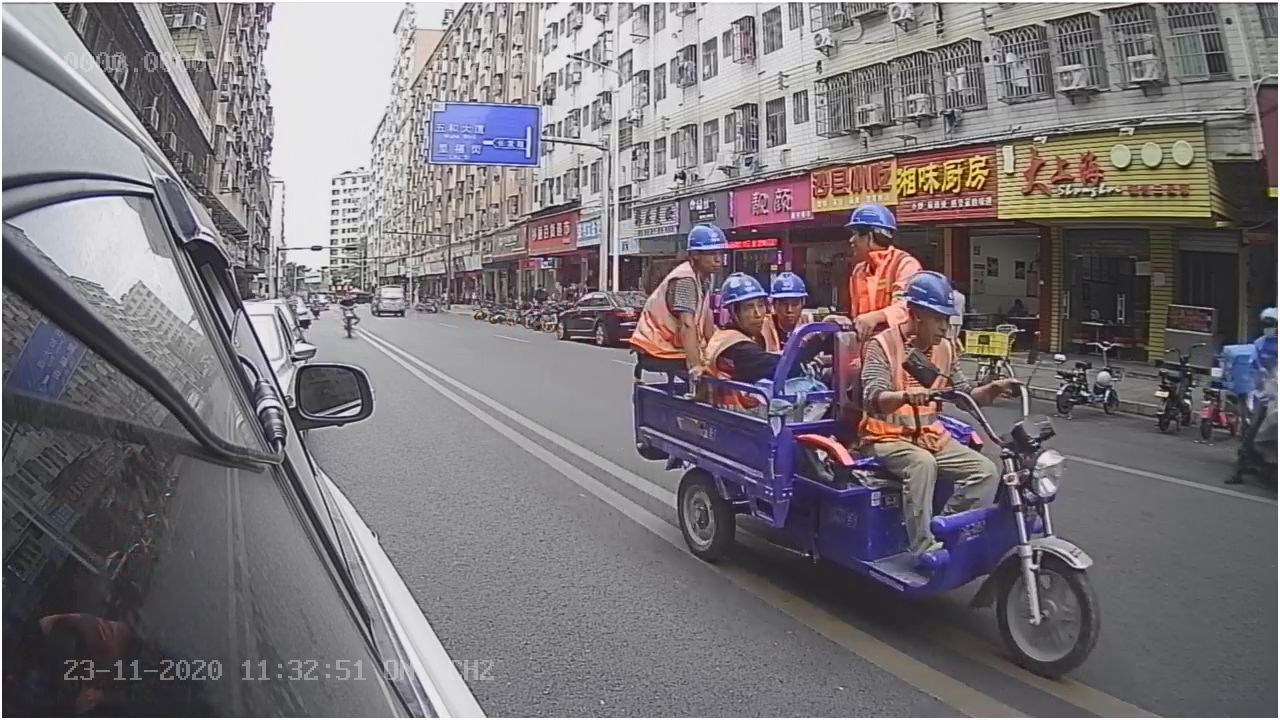person: (860, 254, 997, 420)
